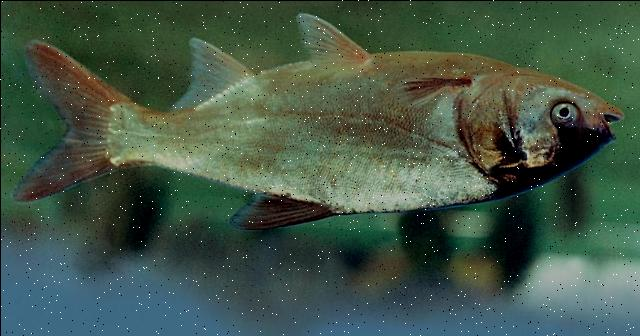Mulut: (586, 84, 632, 154)
Sirip Anal: (160, 28, 252, 118)
Sirip Dada: (389, 65, 471, 115)
Sirip Ekor: (5, 33, 114, 209)
Sirip Perut: (290, 8, 372, 74)
Sirip Punggung: (226, 184, 324, 238)
